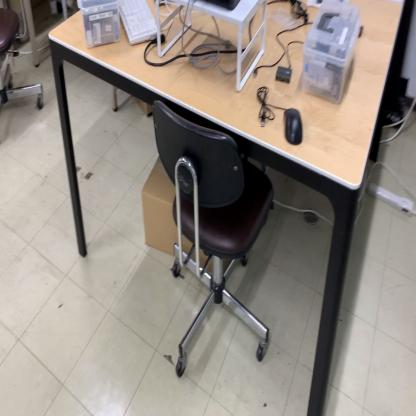chair: (151, 97, 275, 381)
